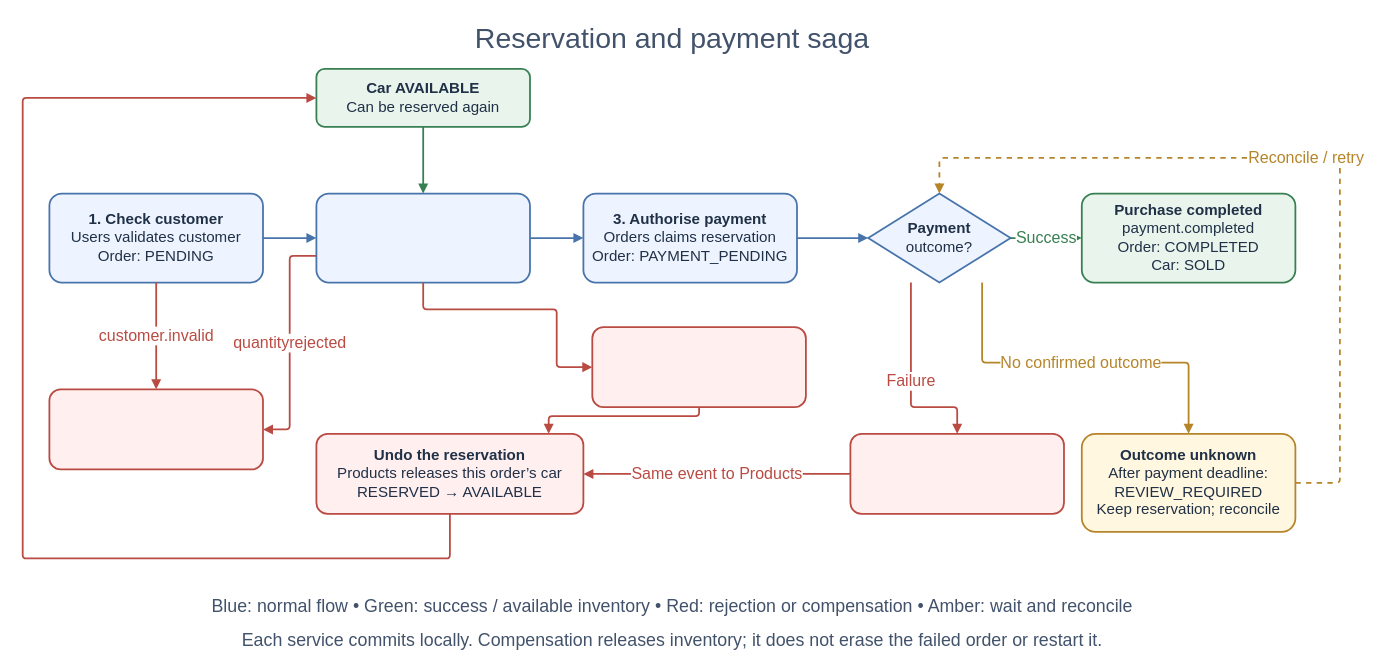
Image size: 1379x669. Some labels were removed from this diagram. Here are the shapes that lost their labels. From the top down, the box of each, then its label:
(315, 192, 530, 283): 2. Reserve car Products locks this order’s car Order: RESERVED
(591, 326, 806, 408): Order CANCELLED Cancel / unpaid reservation expiry order.cancelled
(48, 388, 263, 470): Order REJECTED Invalid customer or car unavailable No reservation to undo
(849, 433, 1064, 514): Payment failed Payments emits paymentfail Orders: FAILED
